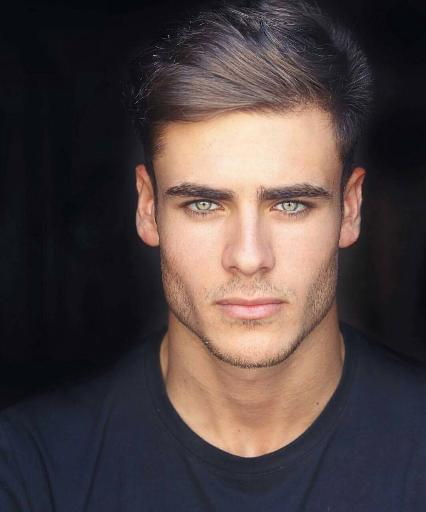left_eye: (270, 199, 318, 221)
left_lip_corner: (279, 296, 293, 313)
right_eye: (180, 197, 227, 219)
right_lip_corner: (212, 296, 228, 316)
